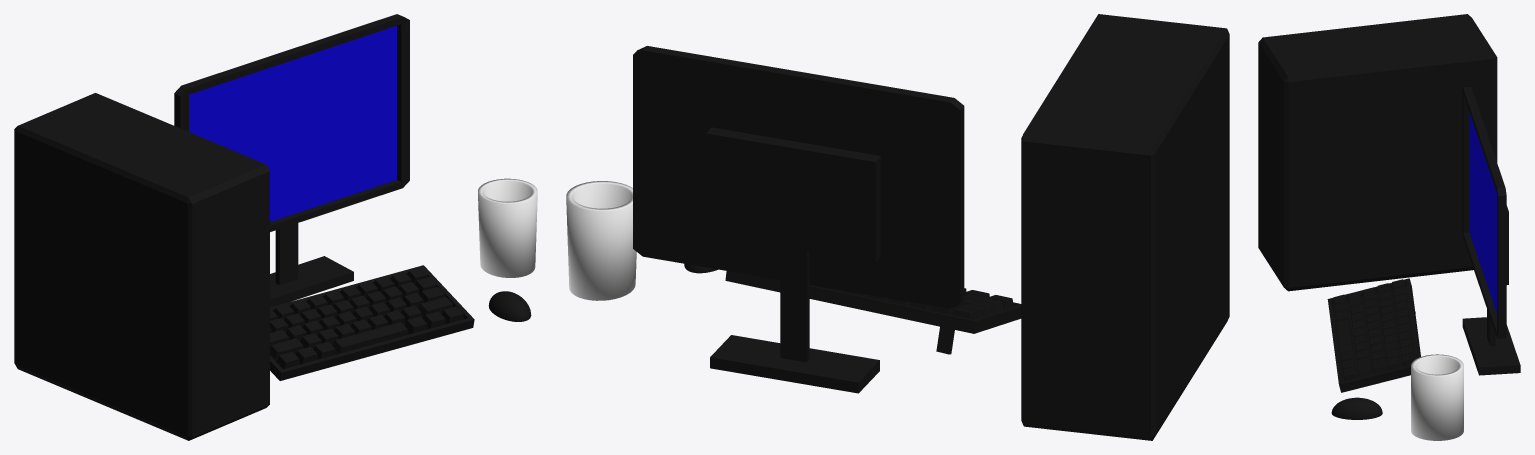
The model's file is computer.gltf.
3 renders of one model, left to right at view 1: azimuth 30°, elevation 25°; view 2: azimuth 150°, elevation 25°; view 3: azimuth 270°, elevation 25°, orthographic. The views are drawn at different scales.
Visible parts, largest first — view 1: Cube.001, Cube.004, Cube.008, Cylinder, Sphere; view 2: Cube.004, Cube.001, Cylinder, Cube.008; view 3: Cube.001, Cube.004, Cube.008, Cylinder, Sphere.
Boxes of the visible parts, box(x1,y1,x2,y2) form: Cube.001: box(14, 93, 269, 440); Cube.004: box(174, 14, 409, 307); Cube.008: box(270, 265, 474, 380); Cylinder: box(478, 178, 537, 277); Sphere: box(488, 291, 531, 321); Cube.004: box(633, 46, 964, 393); Cube.001: box(1021, 14, 1229, 440); Cylinder: box(566, 181, 636, 300); Cube.008: box(725, 271, 1021, 333); Cube.001: box(1258, 14, 1497, 291); Cube.004: box(1462, 86, 1520, 375); Cube.008: box(1327, 278, 1420, 392); Cylinder: box(1411, 354, 1463, 440); Sphere: box(1331, 397, 1382, 419).
Size of the model in its own units: 10.95 by 5.09 by 5.63.
